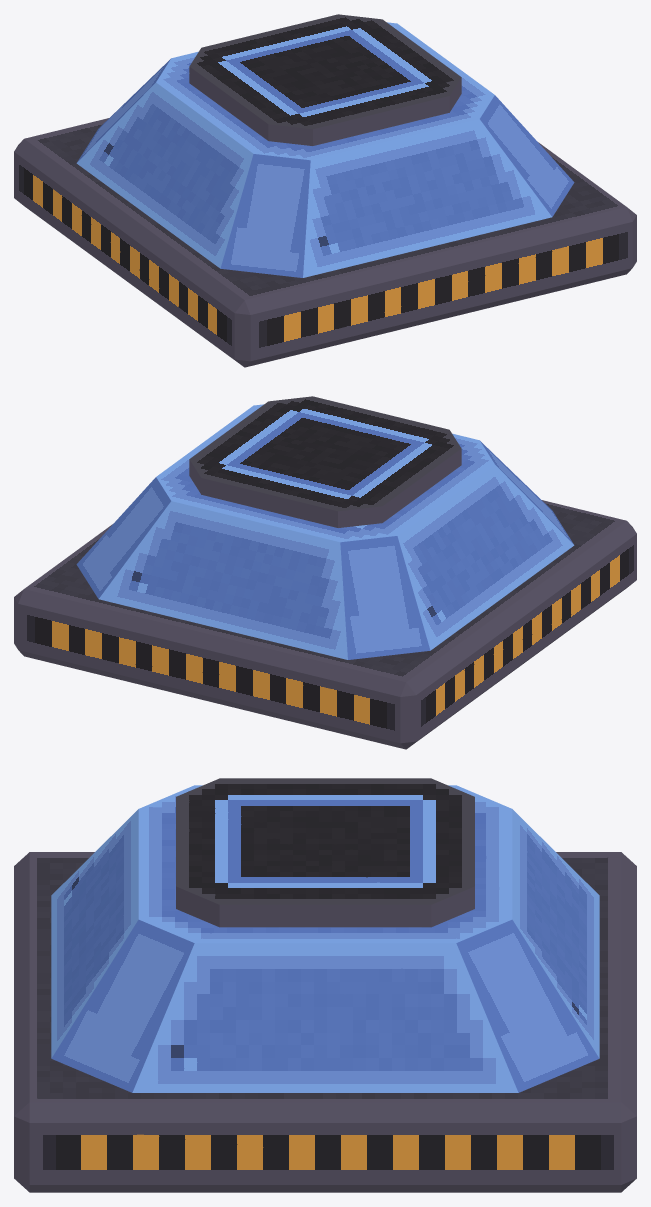
File: receiver.glb
3 renders of one model, top to bottom at view 1: azimuth 30°, elevation 25°; view 2: azimuth 150°, elevation 25°; view 3: azimuth 270°, elevation 25°, orthographic. The views are drawn at different scales.
Parts seen in each view (by area): view 1: receiver_body; view 2: receiver_body; view 3: receiver_body.
Part boxes in pixels (x1=…): receiver_body: x1=14, y1=14, x2=636, y2=367; receiver_body: x1=14, y1=396, x2=636, y2=749; receiver_body: x1=14, y1=778, x2=636, y2=1192.
Bounding box in the file's own units: 1 × 0.4 × 1.
1 material, 1 textured.
